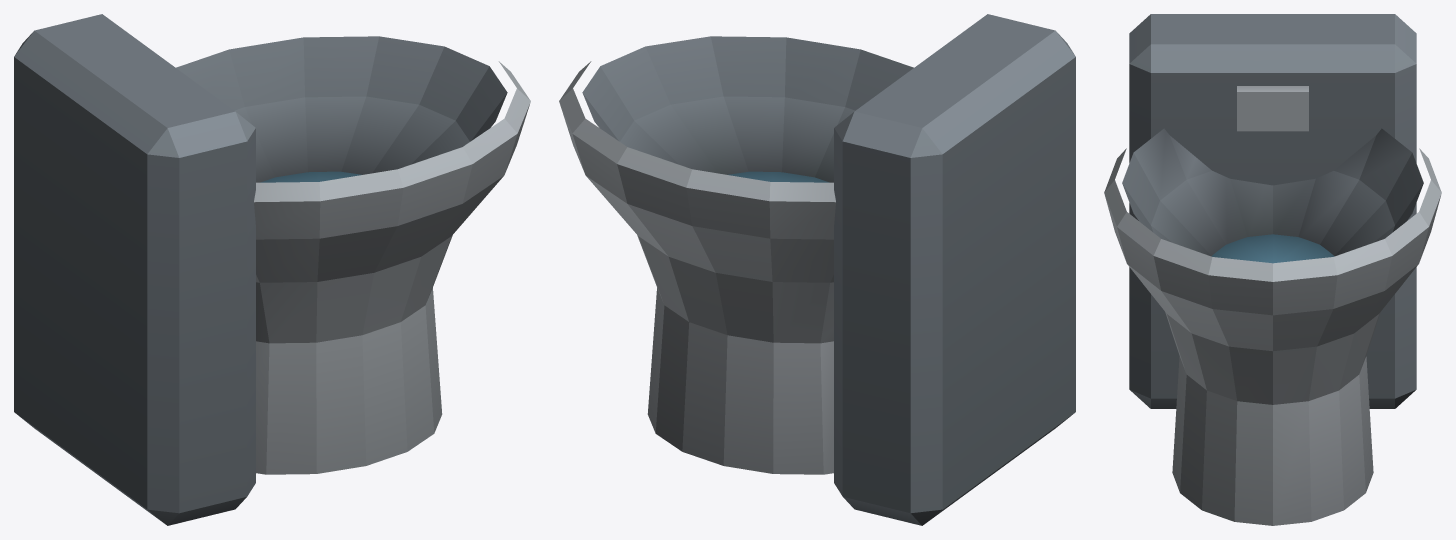
Rendered from toilet_steel.glb.
The picture shows the model from 3 angles, left to right: view 1: azimuth 30°, elevation 25°; view 2: azimuth 150°, elevation 25°; view 3: azimuth 270°, elevation 25°; orthographic projection. The views are drawn at different scales.
Visible parts, largest first — view 1: Body; view 2: Body; view 3: Body.
Boxes of the visible parts, x1=… form: Body: x1=14, y1=14, x2=530, y2=525; Body: x1=559, y1=14, x2=1075, y2=525; Body: x1=1104, y1=14, x2=1441, y2=525.
Size of the model in its own units: 0.6337 by 0.56 by 0.47.
